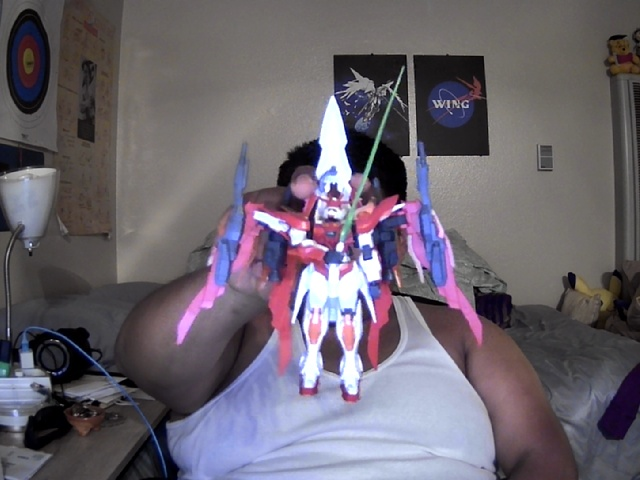Honoo: (175, 93, 483, 402)
